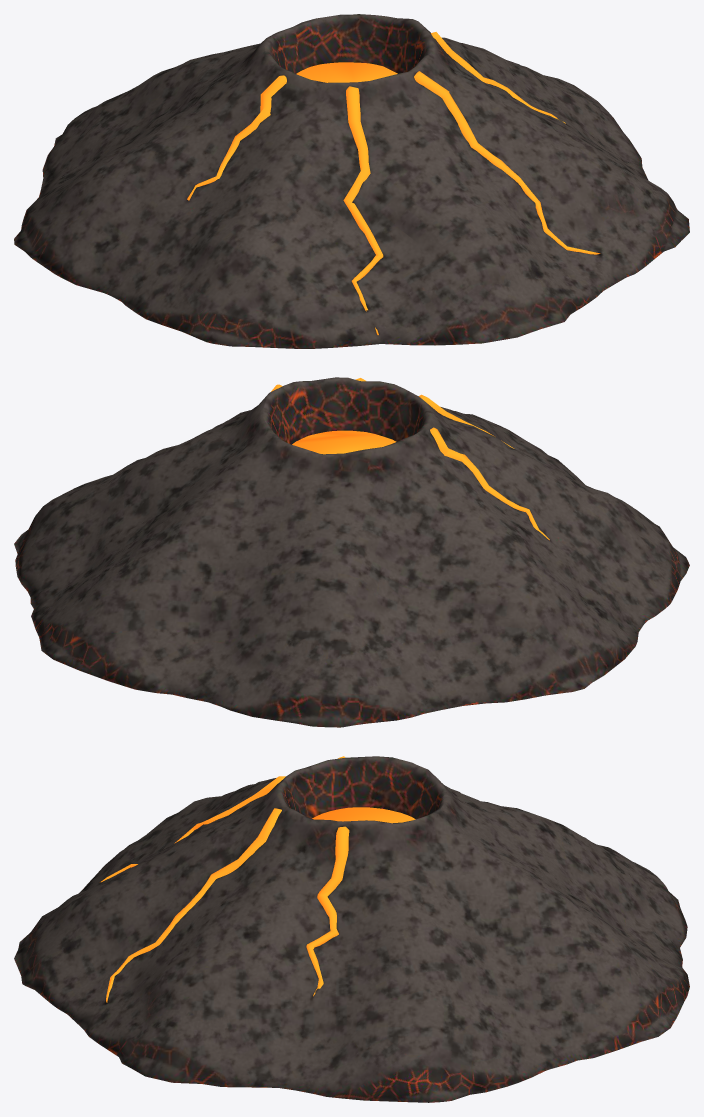
Rendered from stone_decor_volcano.glb.
The picture shows the model from 3 angles, top to bottom: view 1: azimuth 30°, elevation 25°; view 2: azimuth 150°, elevation 25°; view 3: azimuth 270°, elevation 25°; orthographic projection.
Visible parts, largest first — view 1: Volcano; view 2: Volcano; view 3: Volcano.
Boxes of the visible parts, x1,y1,x2,y2 form: Volcano: [14, 14, 689, 348]; Volcano: [14, 377, 689, 727]; Volcano: [14, 756, 689, 1102].
Bounding box in the file's own units: 14.05 × 4.28 × 14.09.
Materials: 2 (1 with a texture image).
